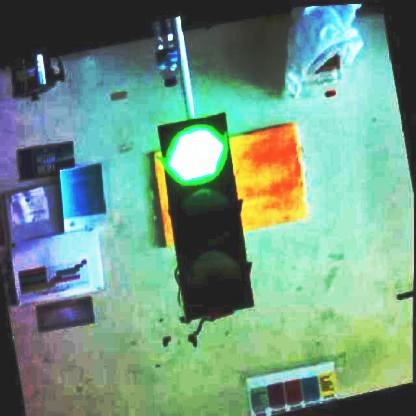Traffic Light -Green-: (156, 106, 262, 317)
